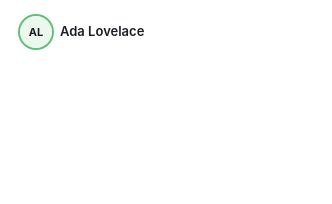
Test: UserInfo › opens a card with the avatar, name and email on click
The image size is (332, 204).
Click the button with class "user-info" at (82, 32), box x1=12 y1=12 x2=152 y2=52
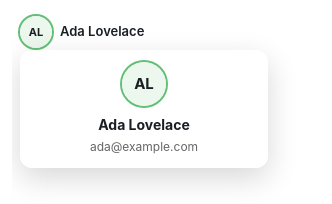
expect the 2nd element with class "user-avatar" is shown: met, box x1=122 y1=62 x2=166 y2=106
expect the text with class "user-info-card-name" reads "Ada Lovelace": met, box x1=98 y1=116 x2=190 y2=133
expect the text with class "user-info-card-email" reads "ada@example.com": met, box x1=90 y1=139 x2=198 y2=154
